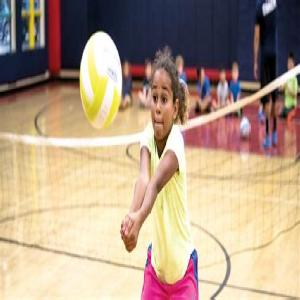Volley: (79, 30, 123, 131)
